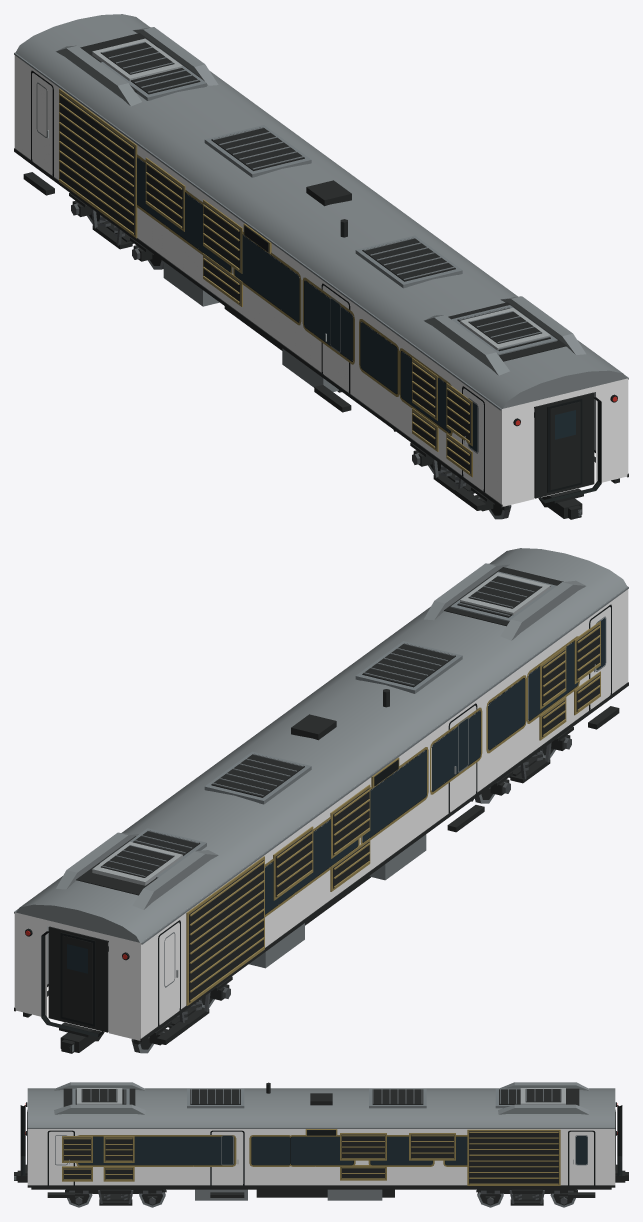
Rendered from nusantara-explorer-low-packed.glb.
The picture shows the model from 3 angles, top to bottom: view 1: azimuth 30°, elevation 25°; view 2: azimuth 150°, elevation 25°; view 3: azimuth 270°, elevation 25°; orthographic projection. The views are drawn at different scales.
Parts seen in each view (by area): view 1: passenger-body (×6), passenger-door--1-1 (×2), passenger-door--1--1, rail-bogie--1, rail-bogie-1; view 2: passenger-body (×6), passenger-door--1-1 (×2), passenger-door--1--1, rail-bogie-1, rail-bogie--1; view 3: passenger-body (×5), passenger-door-1-1 (×2), passenger-door-1--1, rail-bogie--1, rail-bogie-1.
Boxes of the visible parts, x1,y1,x2,y2 form: passenger-body (×6): (14, 14, 628, 518); passenger-door--1-1 (×2): (322, 285, 483, 490); passenger-door--1--1: (32, 73, 52, 174); rail-bogie--1: (69, 193, 152, 261); rail-bogie-1: (410, 442, 493, 511); passenger-body (×6): (14, 548, 628, 1052); passenger-door--1-1 (×2): (449, 607, 610, 811); passenger-door--1--1: (159, 922, 179, 1024); rail-bogie-1: (490, 727, 573, 795); rail-bogie--1: (149, 976, 232, 1045); passenger-body (×5): (17, 1082, 625, 1200); passenger-door-1-1 (×2): (49, 1131, 243, 1185); passenger-door-1--1: (569, 1131, 593, 1185); rail-bogie--1: (476, 1189, 577, 1205); rail-bogie-1: (65, 1189, 166, 1205).
Size of the model in its own units: 3.23 by 3.95 by 20.04.
